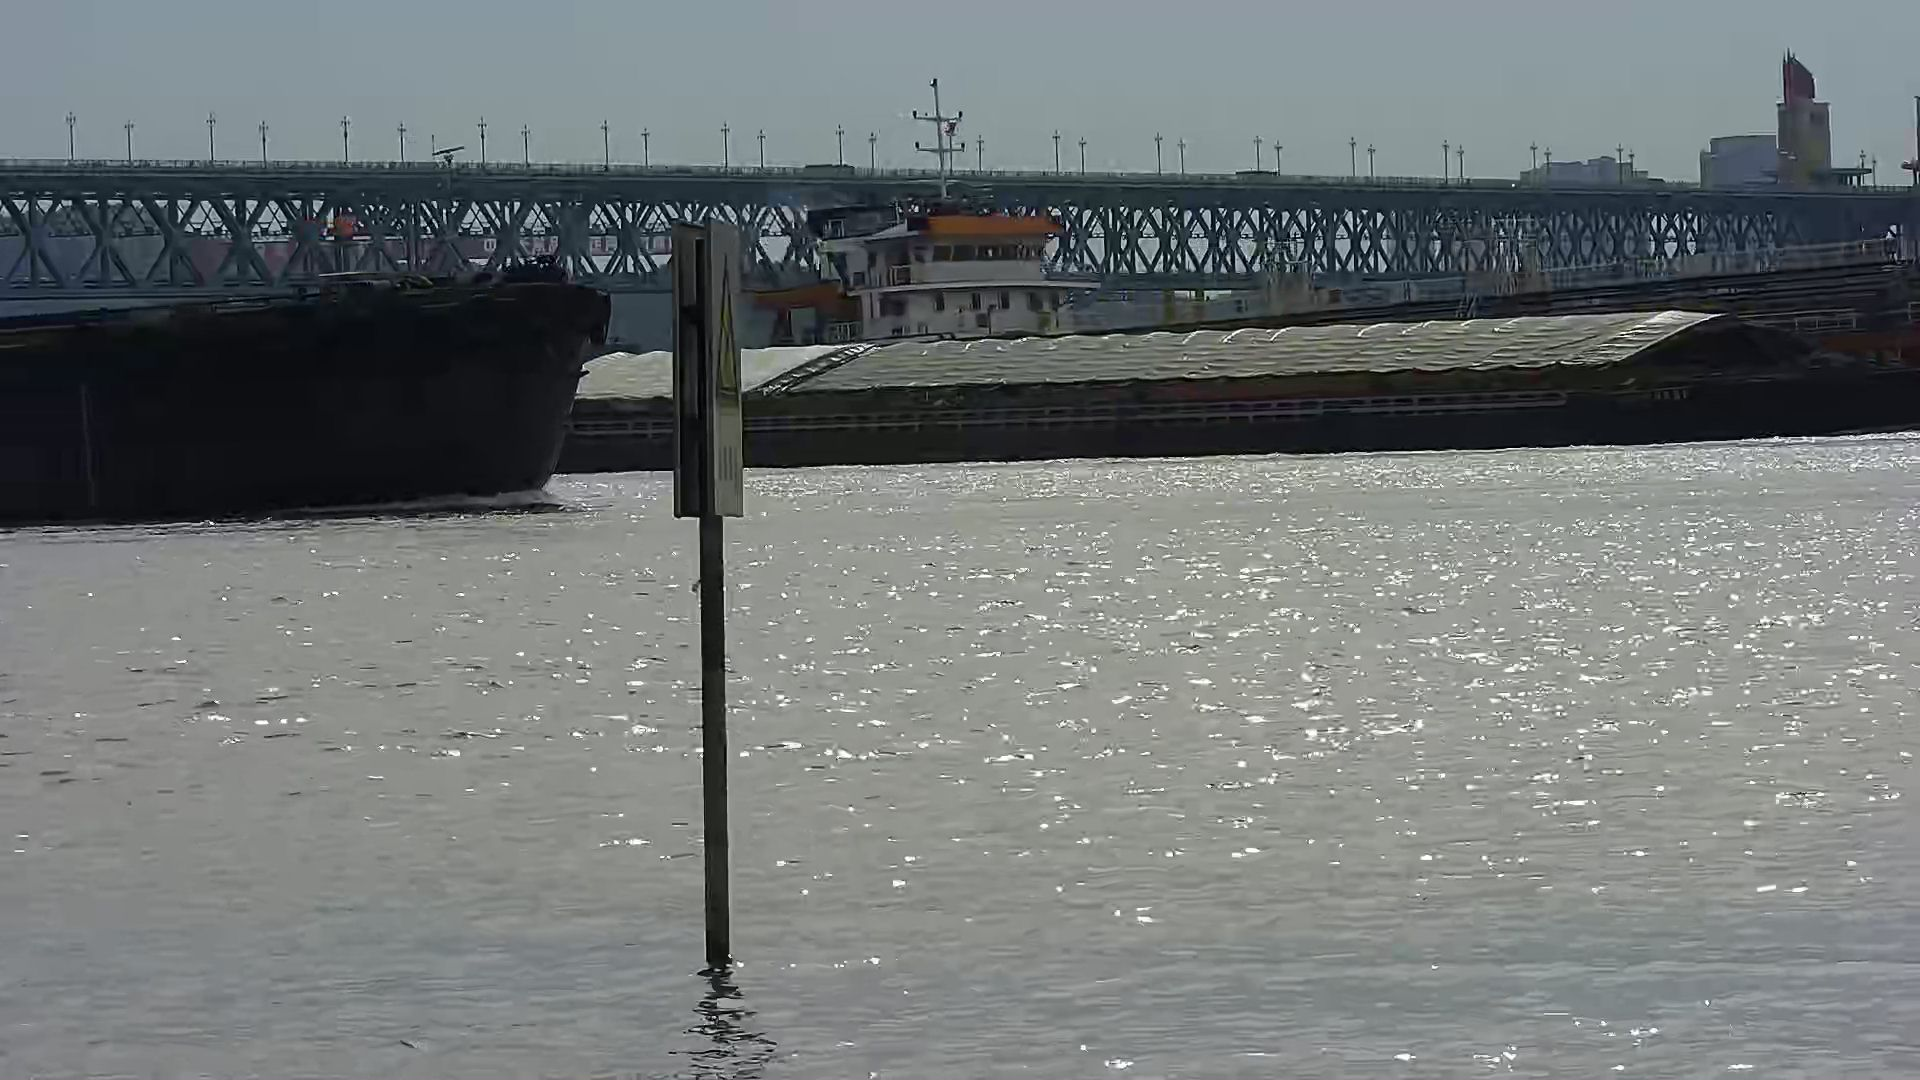bridge: (1, 102, 1920, 268)
mast: (673, 220, 746, 965)
ship: (551, 80, 1920, 475), (1, 261, 604, 525)
